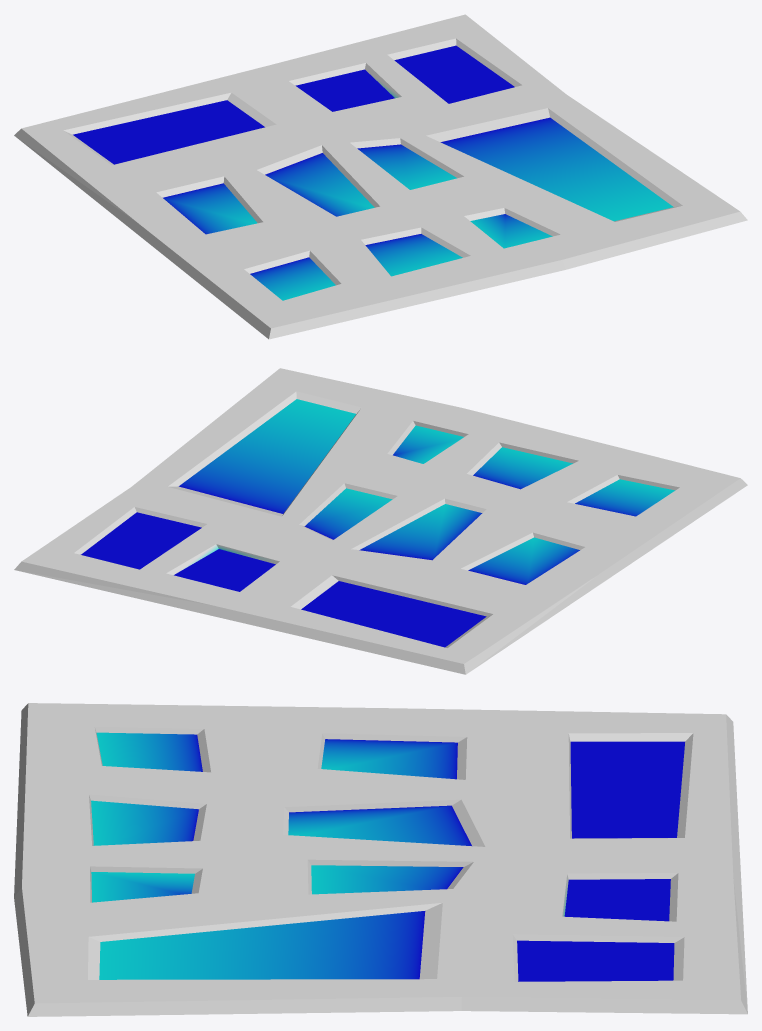
Rendered from prop-lane_grate.glb.
3 views of the same model, one above another, from view 1: azimuth 30°, elevation 25°; view 2: azimuth 150°, elevation 25°; view 3: azimuth 270°, elevation 25° (orthographic). The views are drawn at different scales.
Parts seen in each view (by area): view 1: prop-lane_grate; view 2: prop-lane_grate; view 3: prop-lane_grate.
Part boxes in pixels (x1,y1,x2,y2): prop-lane_grate: (14, 14, 747, 339); prop-lane_grate: (14, 368, 747, 674); prop-lane_grate: (14, 703, 747, 1016).
Size of the model in its own units: 2.22 by 0.035 by 2.24.
